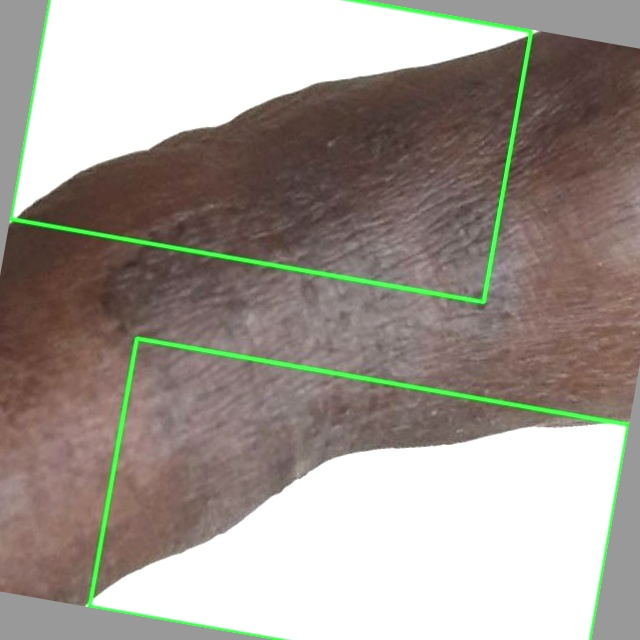Eczema: (89, 338, 628, 639), (11, 0, 531, 301)
